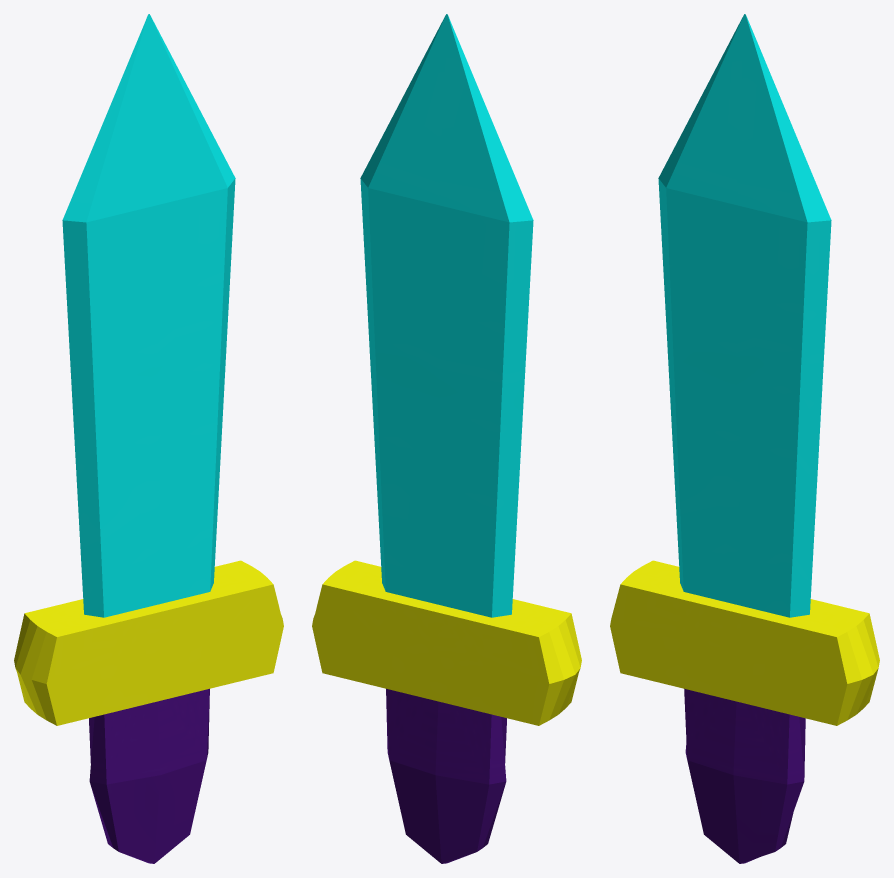
File: sword.fbx
3 renders of one model, left to right at view 1: azimuth 30°, elevation 25°; view 2: azimuth 150°, elevation 25°; view 3: azimuth 330°, elevation 25°, orthographic.
Visible parts, largest first — view 1: Sword; view 2: Sword; view 3: Sword.
Part boxes in pixels (bbox=[...]): Sword: bbox=[14, 14, 283, 863]; Sword: bbox=[312, 14, 581, 863]; Sword: bbox=[610, 14, 879, 863].
Bounding box in the file's own units: 182 × 574 × 40.
